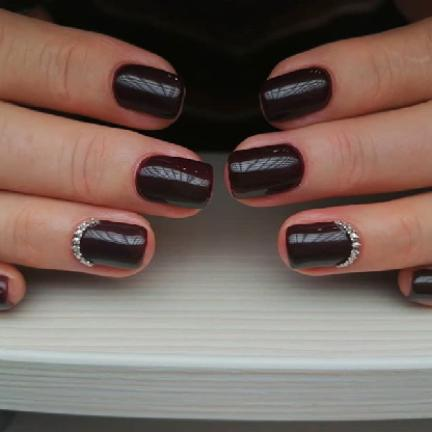Nail: (228, 144, 304, 199), (113, 64, 186, 119), (136, 156, 213, 208), (260, 68, 332, 122), (72, 219, 148, 269), (286, 220, 360, 269)
